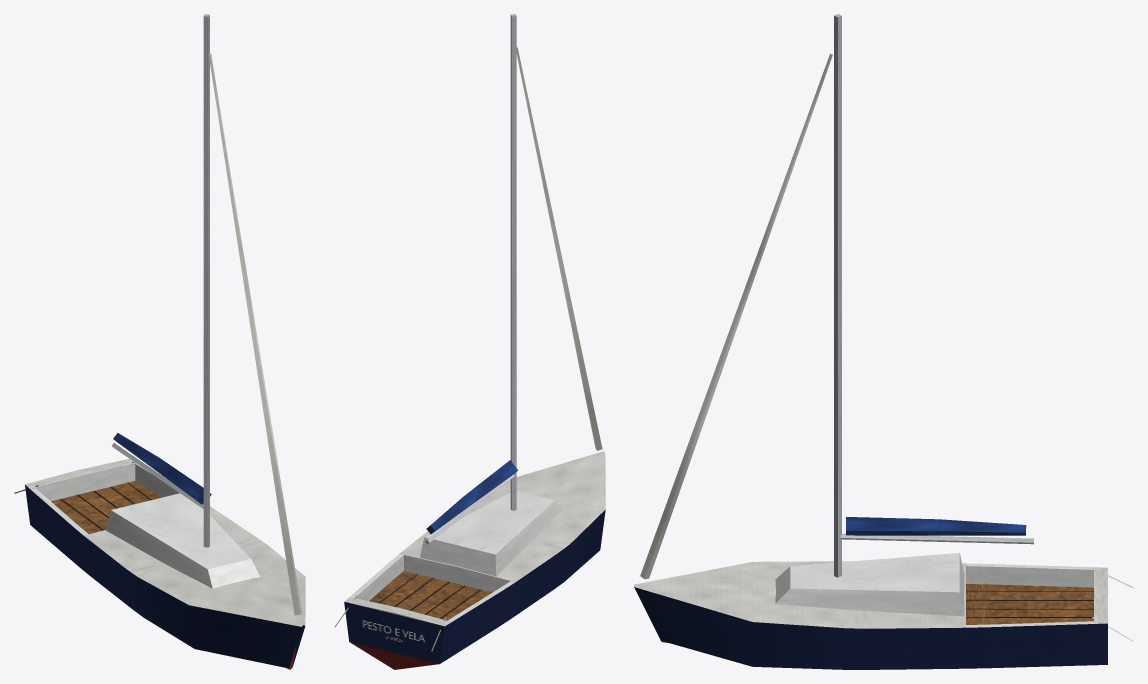
File: SM_Morin_Barca_Vela9_Blu_LOD2.fbx
3 views of the same model, side by side, from view 1: azimuth 30°, elevation 25°; view 2: azimuth 150°, elevation 25°; view 3: azimuth 270°, elevation 25° (orthographic). The views are drawn at different scales.
Parts seen in each view (by area): view 1: SM_Morin_Barca_Vela9_Blu_LOD2; view 2: SM_Morin_Barca_Vela9_Blu_LOD2; view 3: SM_Morin_Barca_Vela9_Blu_LOD2.
Part boxes in pixels (x1,y1,x2,y2): SM_Morin_Barca_Vela9_Blu_LOD2: [14, 14, 305, 669]; SM_Morin_Barca_Vela9_Blu_LOD2: [334, 14, 605, 669]; SM_Morin_Barca_Vela9_Blu_LOD2: [634, 14, 1133, 669].
Size of the model in its own units: 300 by 944 by 1340.
1 material, 1 textured.
